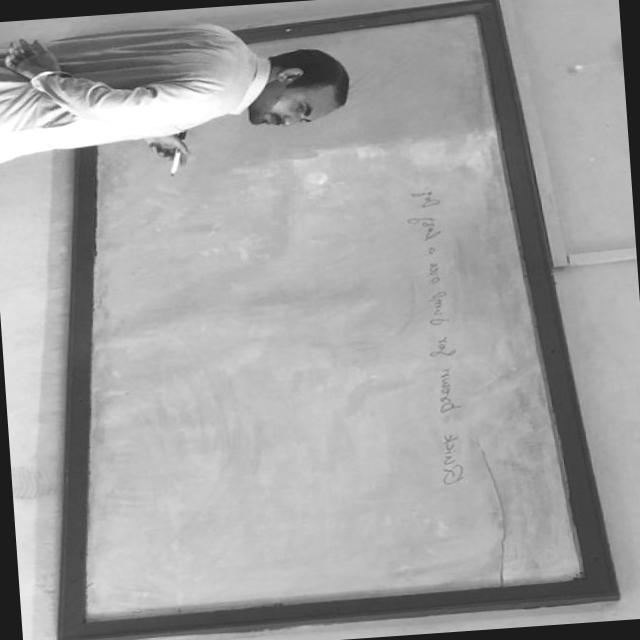Instructor: (0, 10, 356, 196)
White-board: (75, 10, 607, 627)
